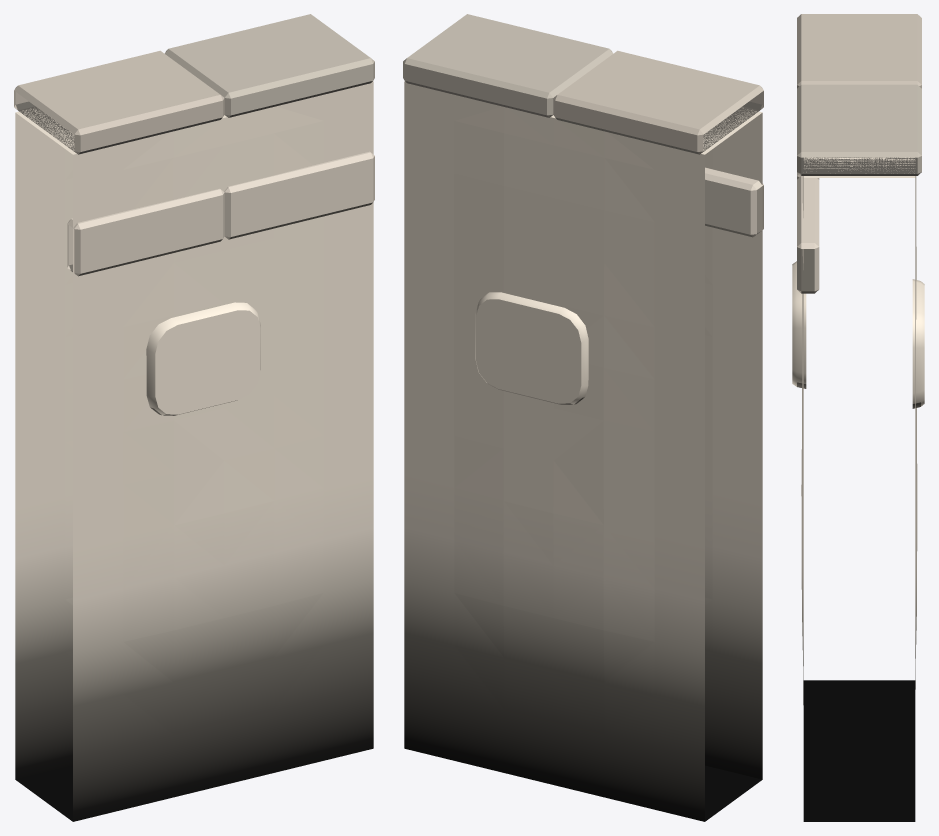
File: SM_VKI_Wall_Ancient_Plain_150B_Full.fbx
3 views of the same model, side by side, from view 1: azimuth 30°, elevation 25°; view 2: azimuth 150°, elevation 25°; view 3: azimuth 270°, elevation 25° (orthographic). The views are drawn at different scales.
Parts seen in each view (by area): view 1: SM_VKI_Wall_Ancient_Plain_150B_Full.001; view 2: SM_VKI_Wall_Ancient_Plain_150B_Full.001; view 3: SM_VKI_Wall_Ancient_Plain_150B_Full.001.
Boxes of the visible parts, left/top/right/bottom form: SM_VKI_Wall_Ancient_Plain_150B_Full.001: left=14, top=14, right=374, bottom=821; SM_VKI_Wall_Ancient_Plain_150B_Full.001: left=403, top=14, right=763, bottom=821; SM_VKI_Wall_Ancient_Plain_150B_Full.001: left=792, top=14, right=924, bottom=821.
Size of the model in its own units: 1.5 by 3.3 by 0.5916.
